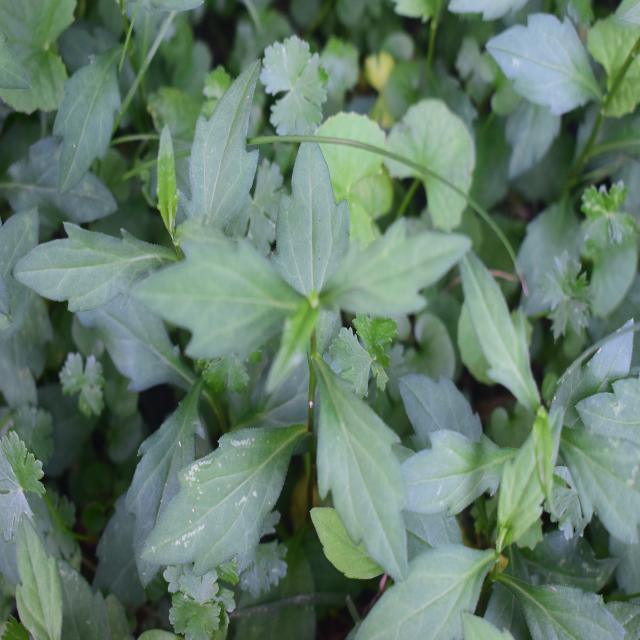Indian aster: (90, 147, 457, 573)
